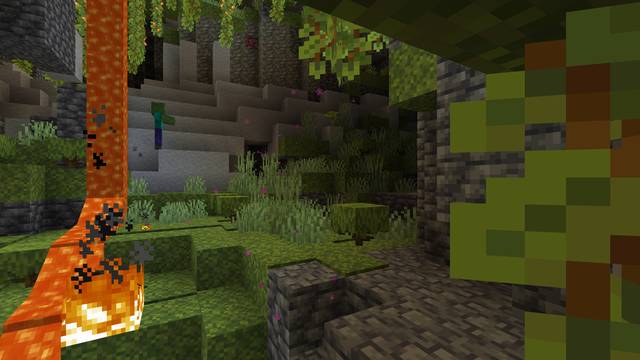zombies: (150, 102, 166, 149)
